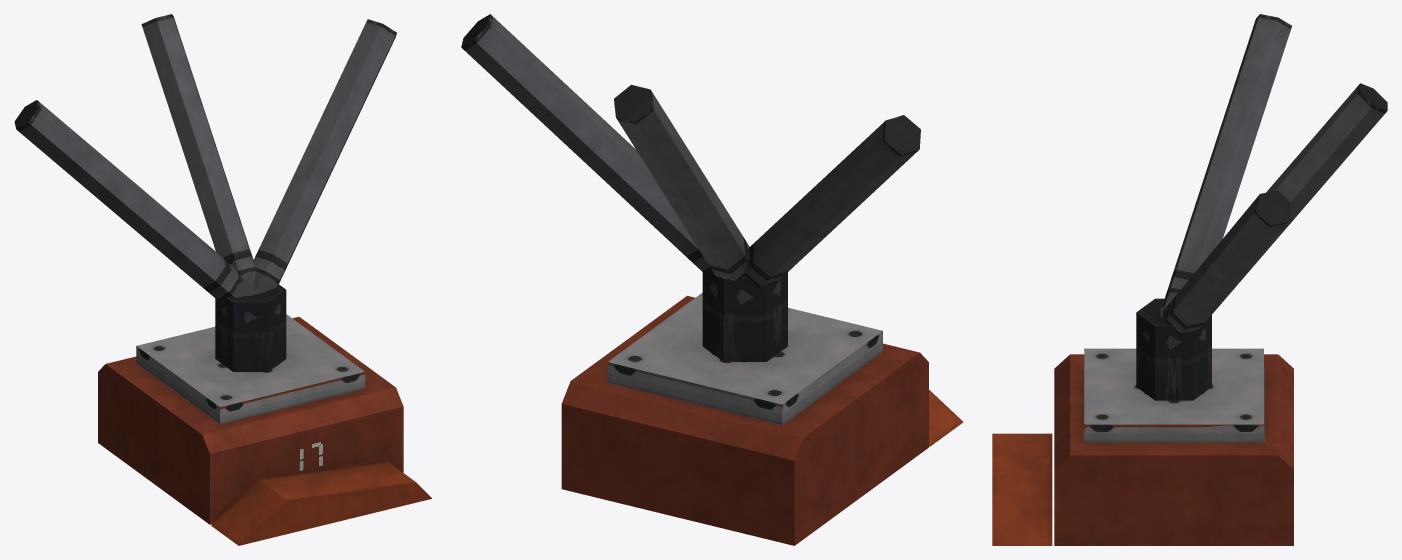
File: dome_strut_anchor.glb
3 views of the same model, side by side, from view 1: azimuth 30°, elevation 25°; view 2: azimuth 150°, elevation 25°; view 3: azimuth 270°, elevation 25° (orthographic). The views are drawn at different scales.
Visible parts, largest first — view 1: dome_strut_anchor; view 2: dome_strut_anchor; view 3: dome_strut_anchor.
Boxes of the visible parts, x1,y1,x2,y2 form: dome_strut_anchor: (14,14,431,545); dome_strut_anchor: (461,14,963,545); dome_strut_anchor: (992,14,1387,545).
Bounding box in the file's own units: 2.35 × 2.25 × 1.98.
Materials: 1 (1 with a texture image).
